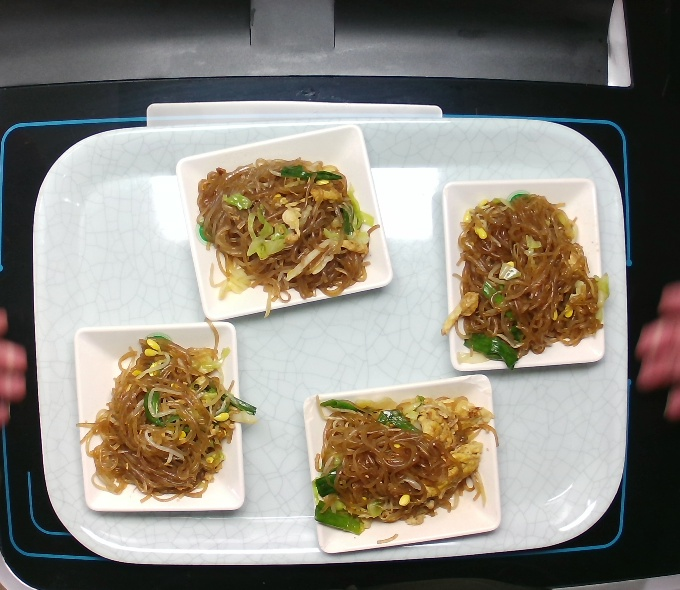wcq-FenSiChaoDan: (299, 379, 505, 546), (77, 335, 256, 517), (443, 180, 599, 378), (187, 148, 374, 312)
